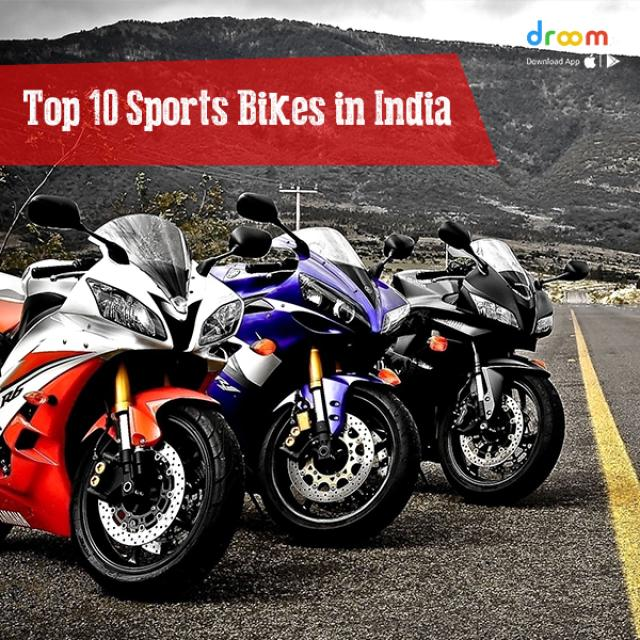motorcycle: (0, 196, 244, 594), (209, 192, 420, 546), (386, 221, 564, 504)
